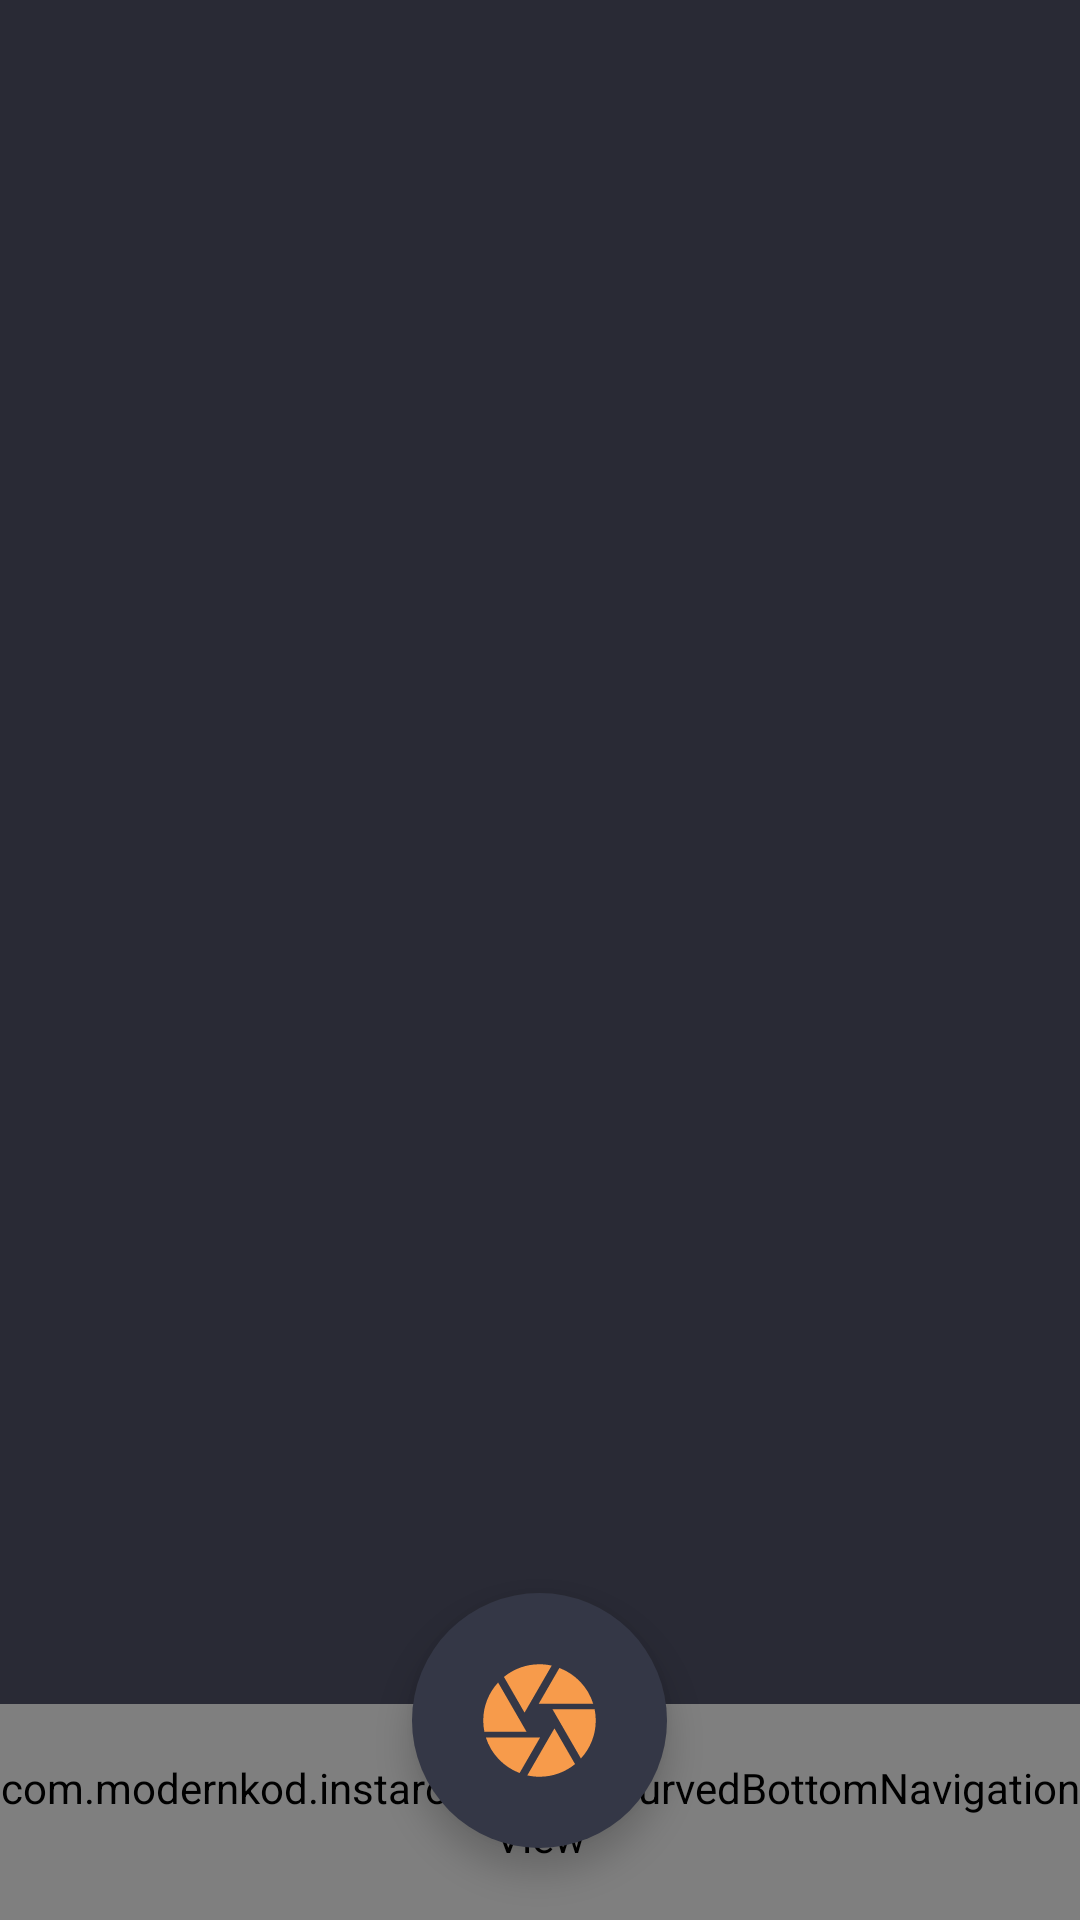

Icon click points for this 1080px x 1920px phone screenshot, format (x,y):
bottom camera: (539,1720)
